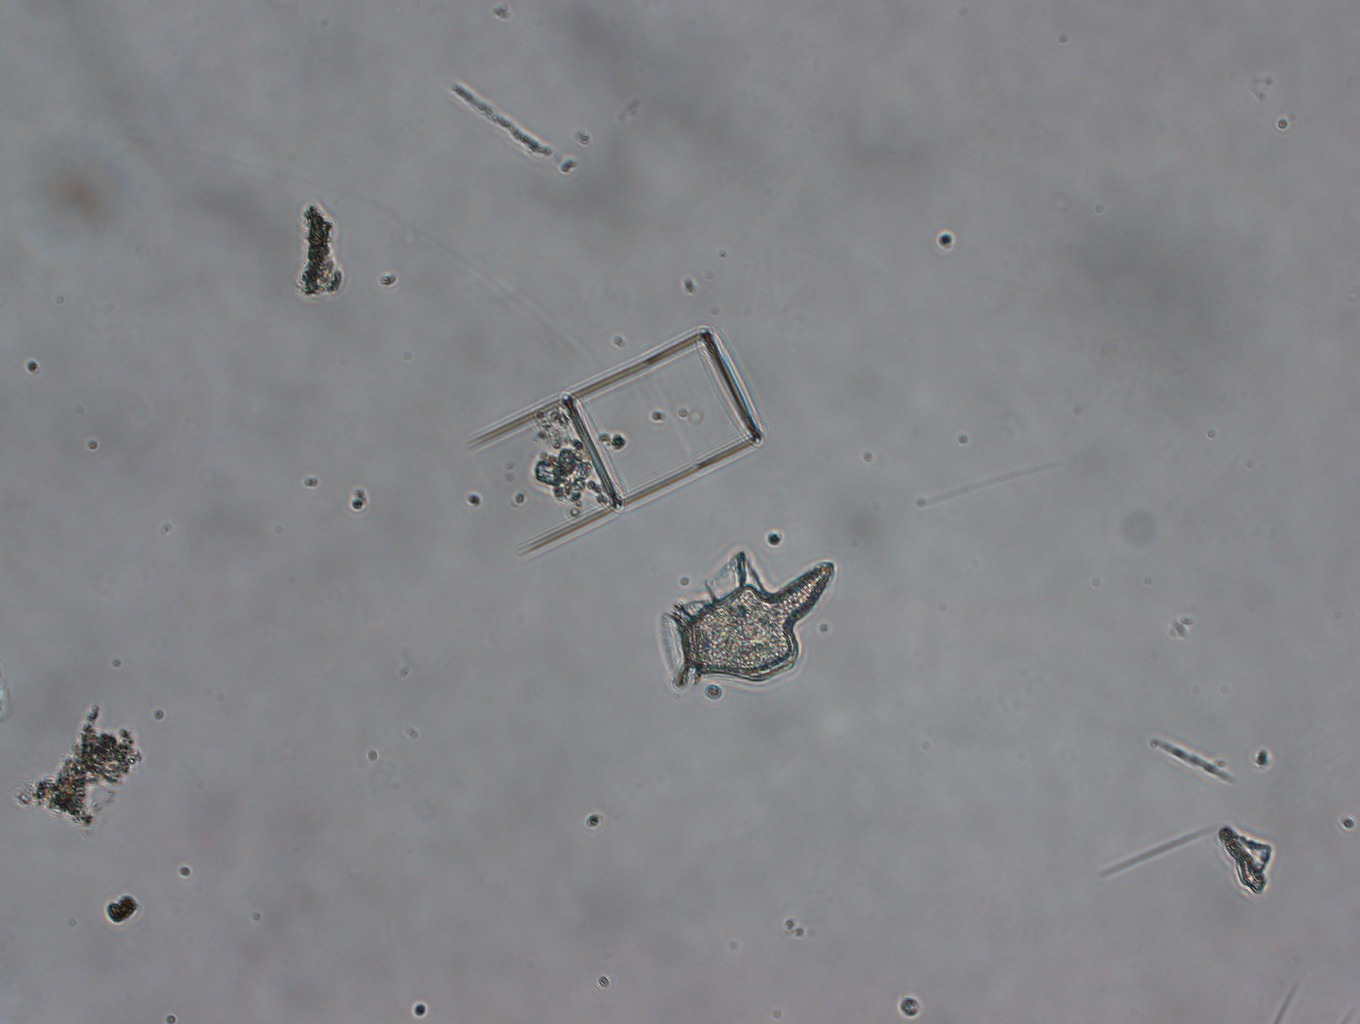dinophysis caudata: (656, 549, 838, 689)
guinardia flaccida: (469, 327, 762, 561)
